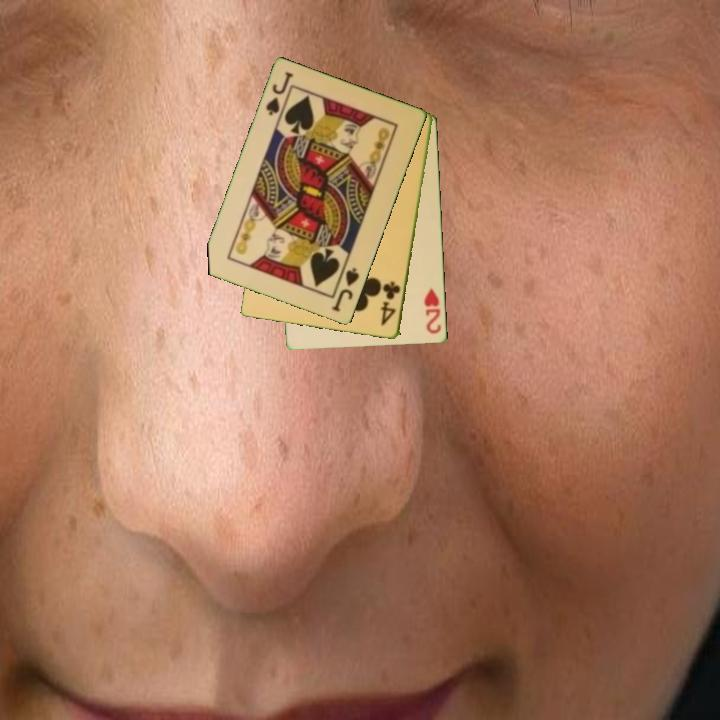2h: (421, 284, 444, 337)
4c: (378, 278, 404, 329)
Js: (328, 264, 362, 315), (262, 68, 296, 119)
